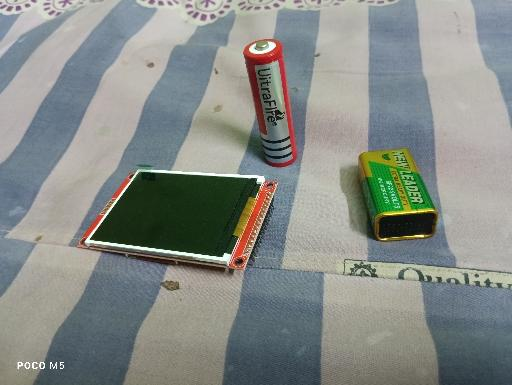Battery: (356, 147, 439, 242), (243, 38, 297, 168)
Display: (77, 163, 279, 271)
